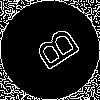B: (25, 25, 82, 78)
